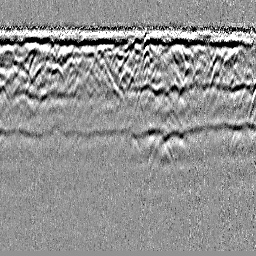cavity: (116, 65, 137, 95)
